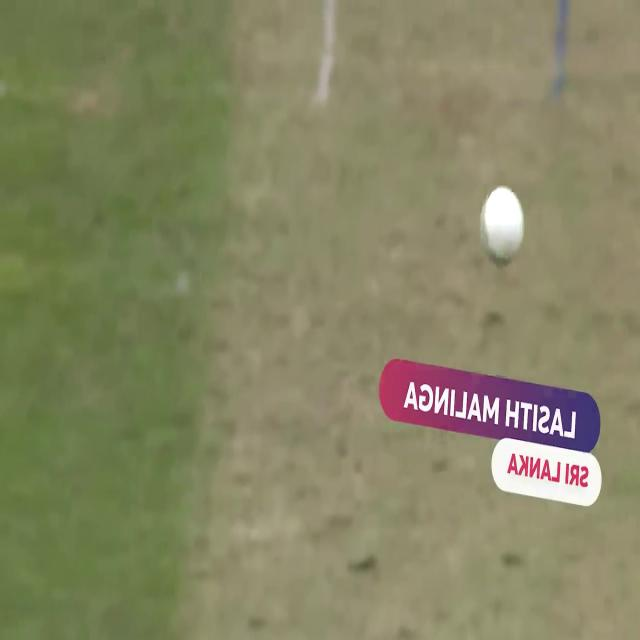ball: (468, 180, 528, 284)
